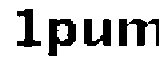1: (15, 7, 43, 52)
m: (117, 15, 160, 48)
p: (47, 14, 78, 60)
u: (83, 16, 114, 50)
